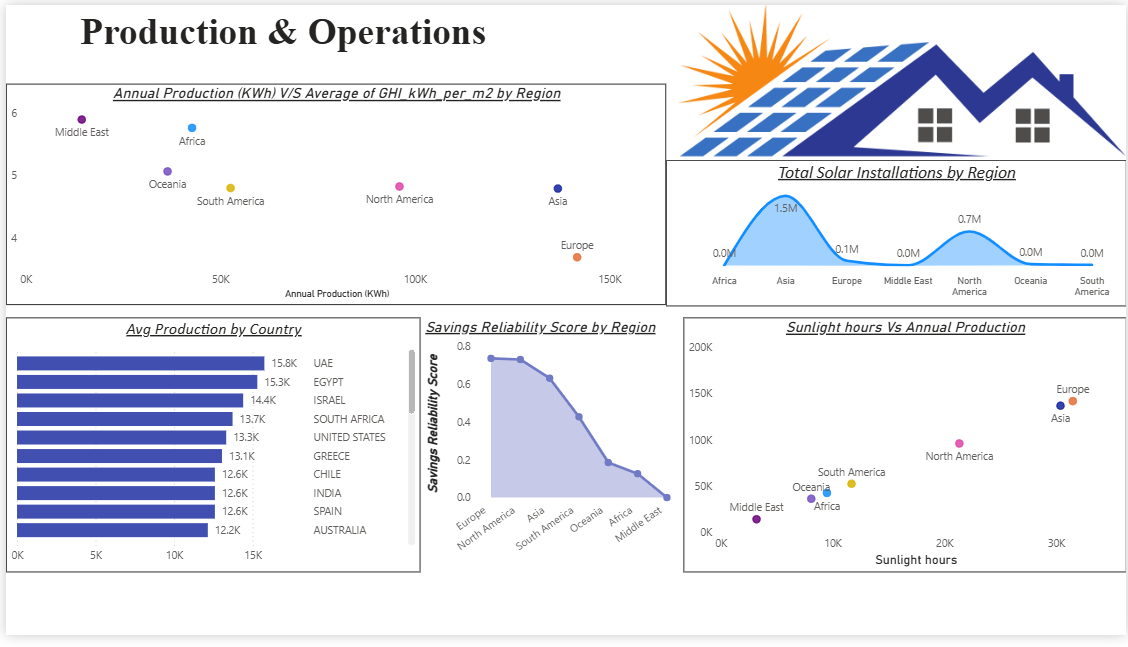

Layout of this report page (visuals, bound fields, positions):
{"tool":"powerbi","page":{"name":"production and operations","canvas":[1280,720],"ordinal":1},"visuals":[{"type":"textbox","box":[10,0,613.8,73.8],"z":0},{"type":"scatterChart","title":"Annual Production (KWh) V/S Average of GHI_kWh_per_m2 by Region","fields":{"X":["Sum(solar_project solar_energy_worldwide.Avg_Annual_Production_kWh)"],"Y":["Avg(solar_project solar_energy_worldwide.GHI_kWh_per_m2)"],"Series":["solar_project solar_energy_worldwide.Region"]},"box":[0,90,754.3,252.9],"z":1000},{"type":"barChart","fields":{"Y":["Measure Table.Avg Production"],"Category":["solar_project solar_energy_worldwide.Country"]},"box":[0,357.1,473.9,290.9],"z":2000},{"type":"lineChart","fields":{"Y":["Measure Table.Total Solar Installations"],"Category":["solar_project solar_energy_worldwide.Region","solar_project solar_energy_worldwide.Country"]},"box":[754,176.6,526.2,166.9],"z":3000},{"type":"lineChart","fields":{"Y":["Measure Table.Savings Reliability Score"],"Category":["solar_project solar_energy_worldwide.Region"]},"box":[473.8,356.9,299.7,291.1],"z":4000},{"type":"scatterChart","title":"Sunlight hours Vs Annual Production ","fields":{"X":["Sum(solar_project solar_energy_worldwide.Annual_Sunlight_Hours)"],"Y":["Sum(solar_project solar_energy_worldwide.Avg_Annual_Production_kWh)"],"Series":["solar_project solar_energy_worldwide.Region"]},"box":[774,357,506,291],"z":5000}]}

Visuals, with their boxes in screenshot pixels (x1, y1, x2, y2), scaled from the page's 1280x720 canvas onto the 1128x647 screenshot:
textbox: <bbox>9, 0, 550, 66</bbox>
"Annual Production (KWh) V/S Average of GHI_kWh_per_m2 by Region" scatterChart: <bbox>0, 81, 665, 308</bbox>
barChart - Measure Table.Avg Production x solar_project solar_energy_worldwide.Country: <bbox>0, 321, 418, 582</bbox>
lineChart - Measure Table.Total Solar Installations x solar_project solar_energy_worldwide.Region: <bbox>664, 159, 1127, 309</bbox>
lineChart - Measure Table.Savings Reliability Score x solar_project solar_energy_worldwide.Region: <bbox>418, 321, 682, 582</bbox>
"Sunlight hours Vs Annual Production " scatterChart: <bbox>682, 321, 1127, 582</bbox>
